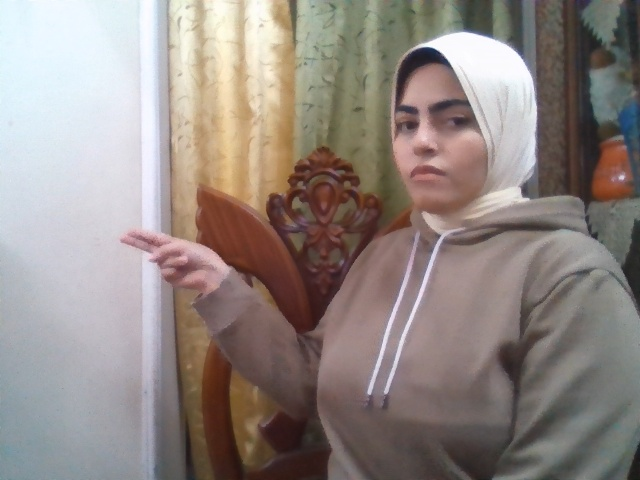H: (119, 228, 226, 289)
